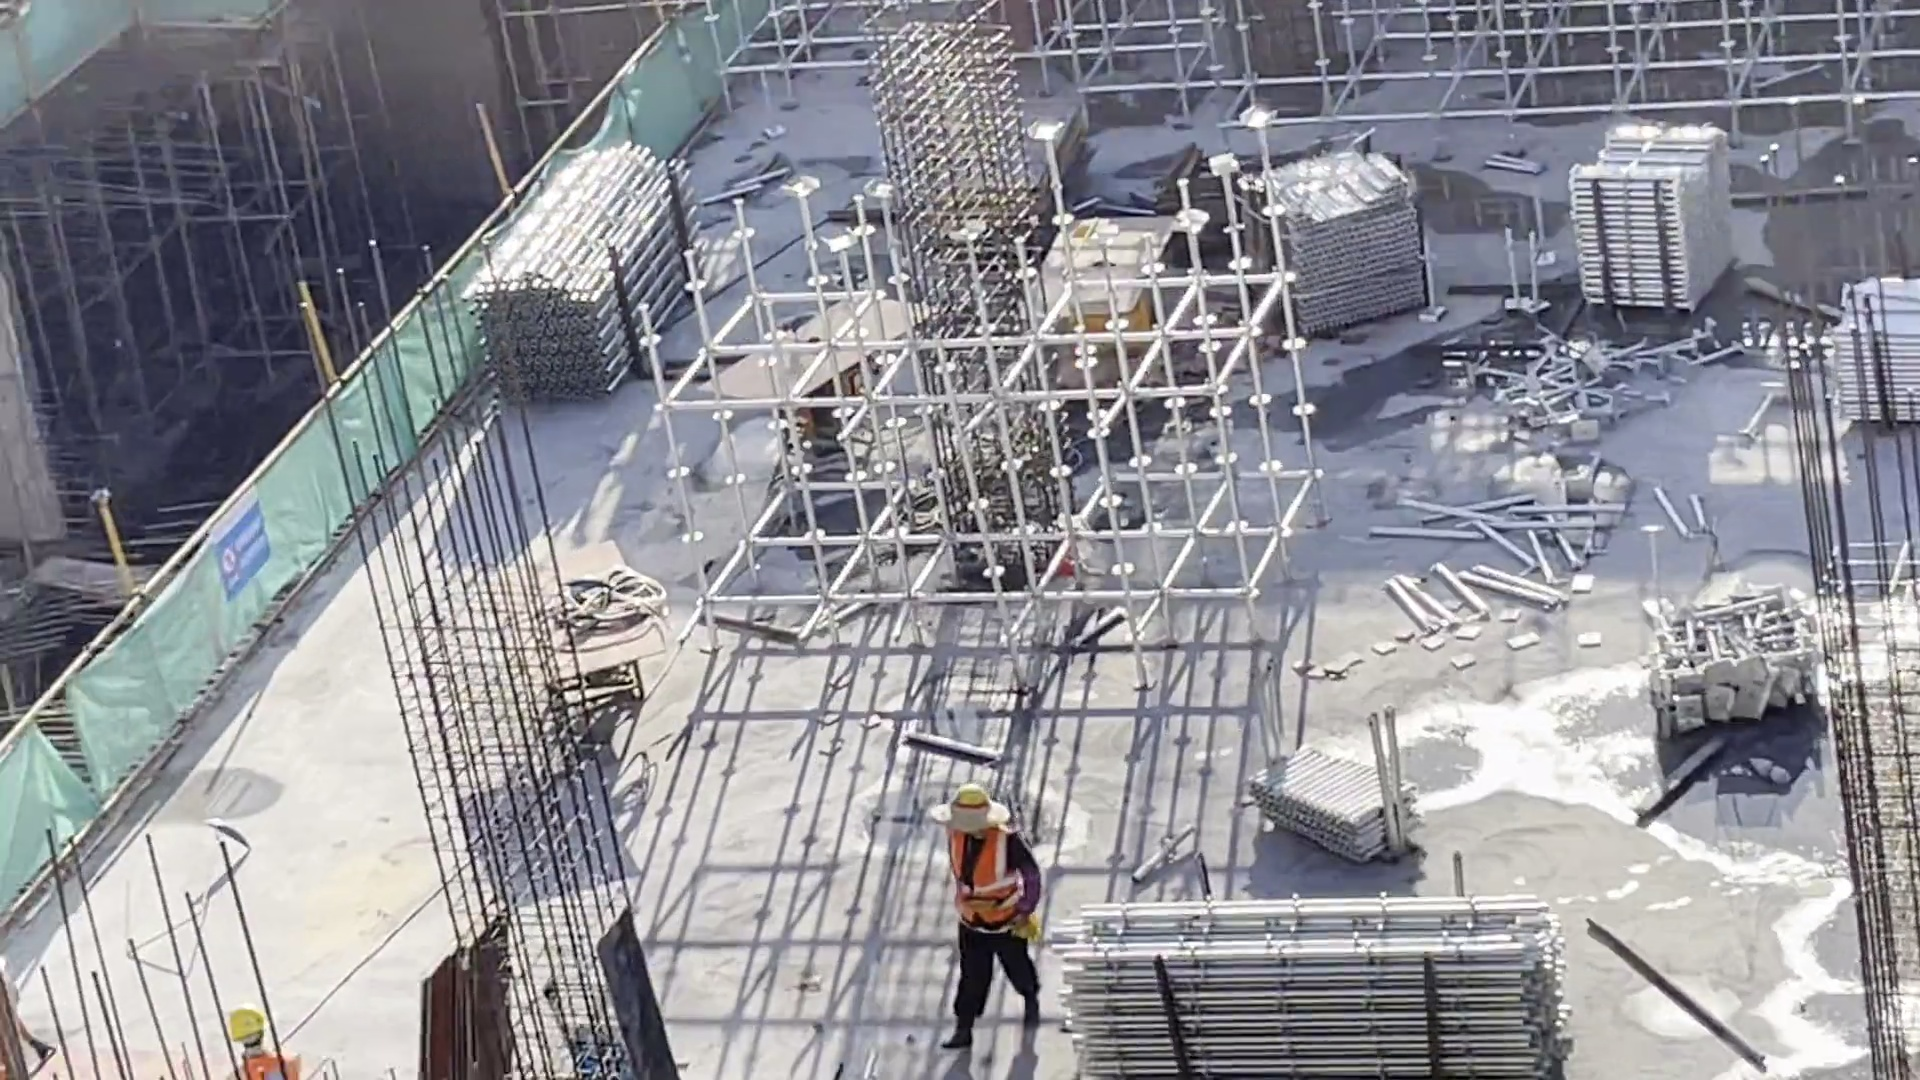helmet: (937, 776, 1001, 826), (227, 1006, 280, 1047)
person: (924, 784, 1048, 1058), (216, 1007, 305, 1080)
scaffold: (1047, 895, 1578, 1080), (460, 142, 703, 401), (1232, 139, 1435, 337), (1562, 113, 1748, 314), (1824, 268, 1920, 432)
vest: (935, 828, 1021, 936)
